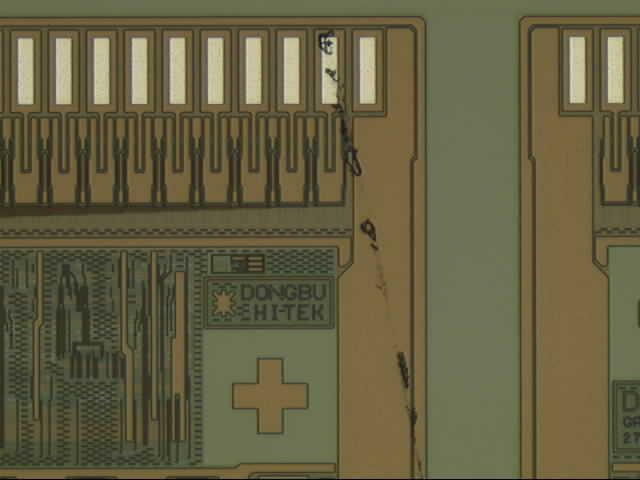SCRATCH: (305, 23, 441, 478)
